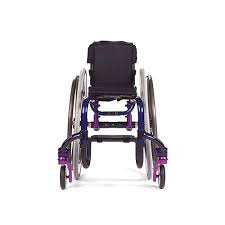wheelchair: (53, 40, 171, 193)
